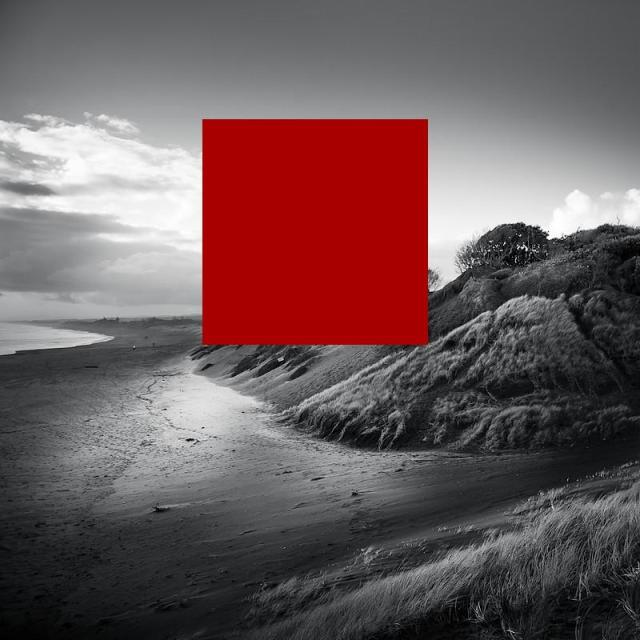RedSquare: (195, 110, 435, 350)
